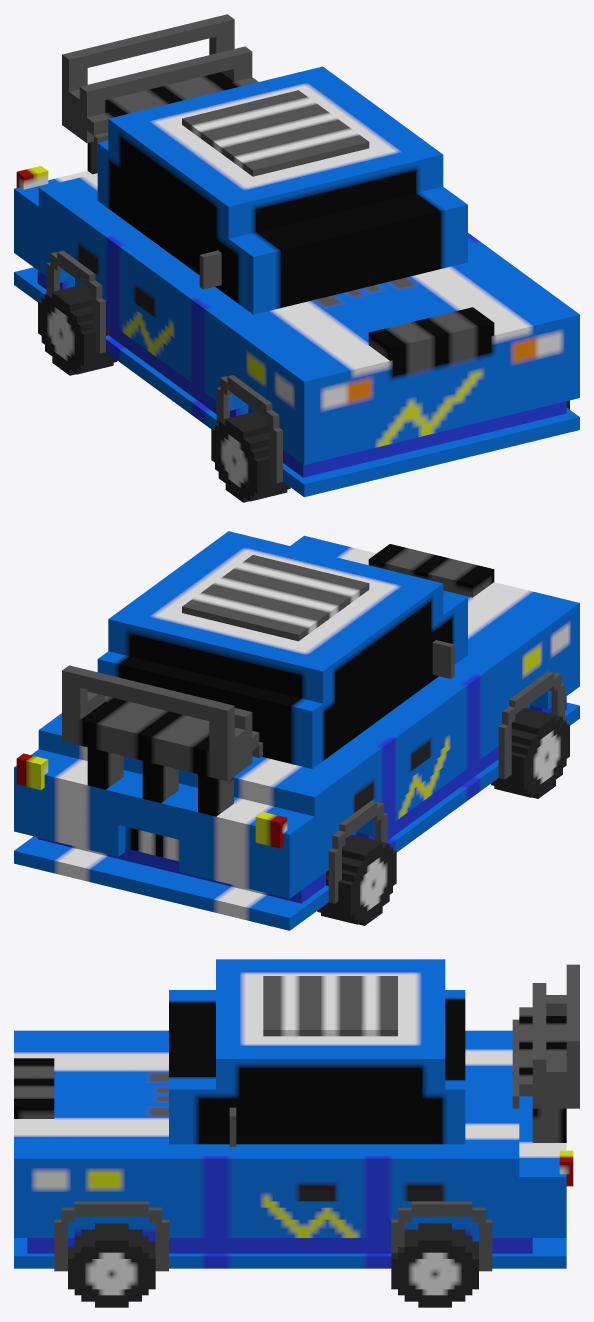
The model's file is car_racing_1.fbx.
3 renders of one model, top to bottom at view 1: azimuth 30°, elevation 25°; view 2: azimuth 150°, elevation 25°; view 3: azimuth 270°, elevation 25°, orthographic. The views are drawn at different scales.
Parts seen in each view (by area): view 1: body, back_right_wheel, back_left_wheel; view 2: body, back_right_wheel, back_left_wheel; view 3: body, front_right_wheel, front_left_wheel.
Boxes of the visible parts, left/top/right/bottom form: body: left=14, top=14, right=579, bottom=497; back_right_wheel: left=211, top=411, right=290, bottom=502; back_left_wheel: left=38, top=284, right=117, bottom=375; body: left=14, top=531, right=579, bottom=930; back_right_wheel: left=491, top=708, right=569, bottom=798; back_left_wheel: left=317, top=835, right=396, bottom=925; body: left=14, top=959, right=579, bottom=1271; front_right_wheel: left=68, top=1223, right=155, bottom=1307; front_left_wheel: left=391, top=1223, right=478, bottom=1307.
Size of the model in its own units: 51 by 38 by 84.
1 material, 1 textured.
